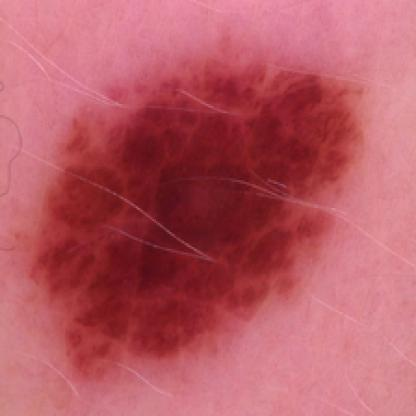benign: (22, 80, 362, 371)
